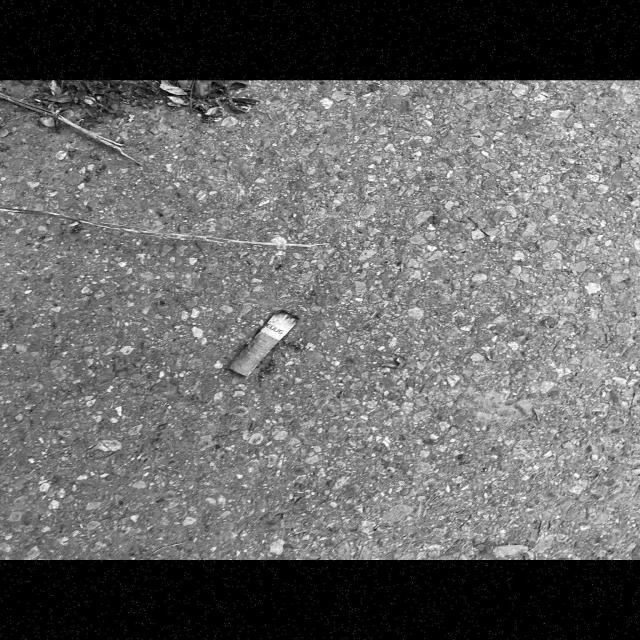other waste: (228, 309, 300, 376)
